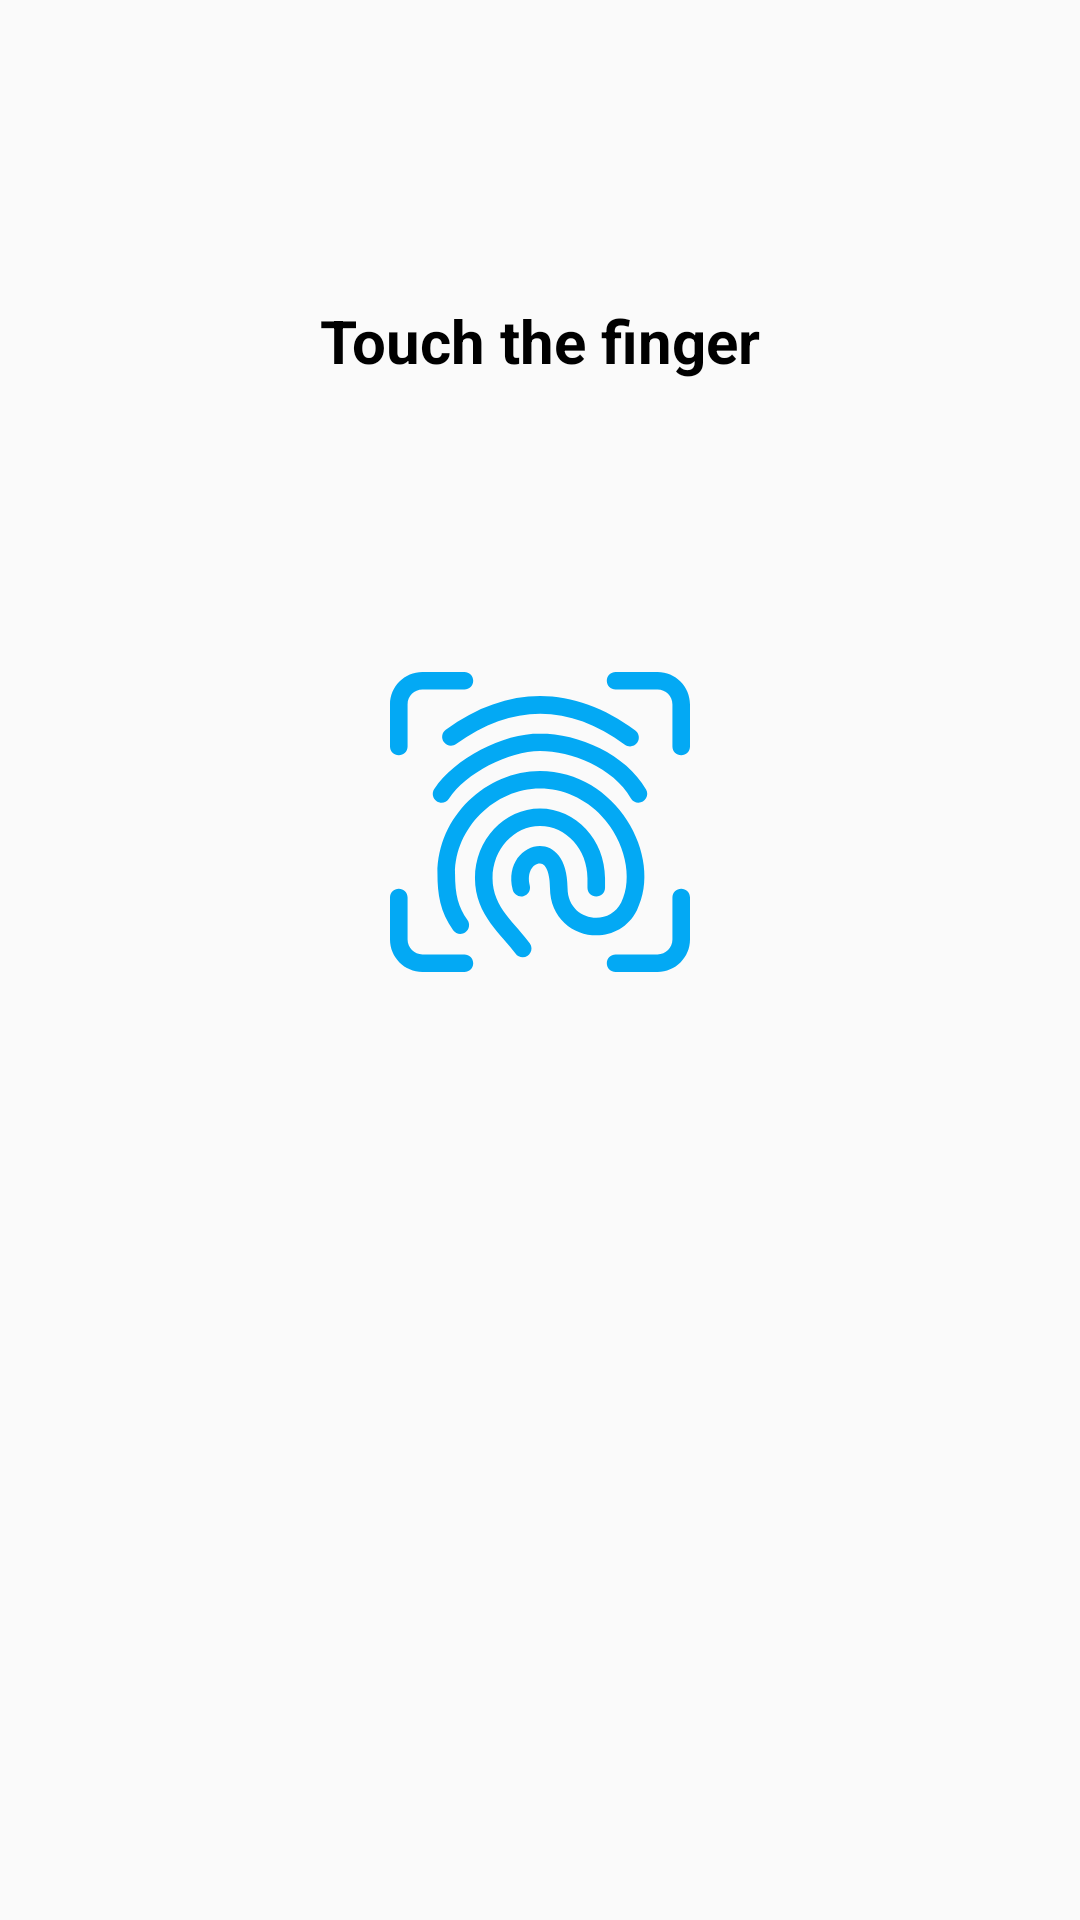

Named icons in this screenshot (1080×1920) and their centers, (x=x, y=y):
fingerprint scan: (x=540, y=822)
